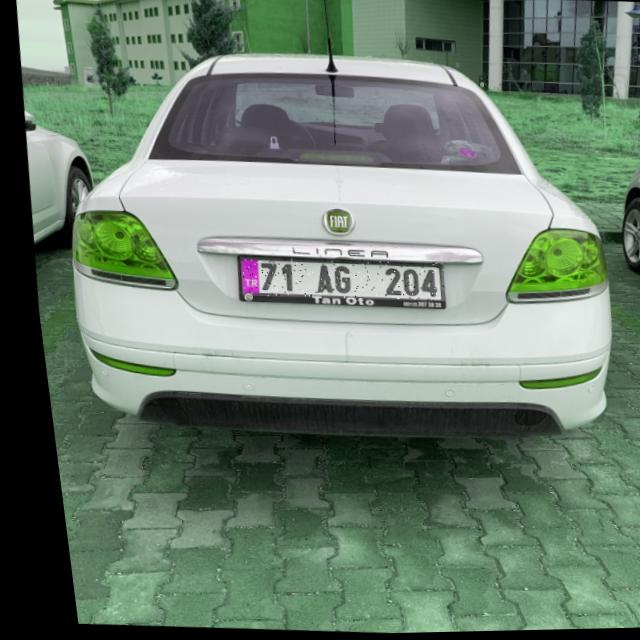license_plate: (231, 254, 440, 307)
